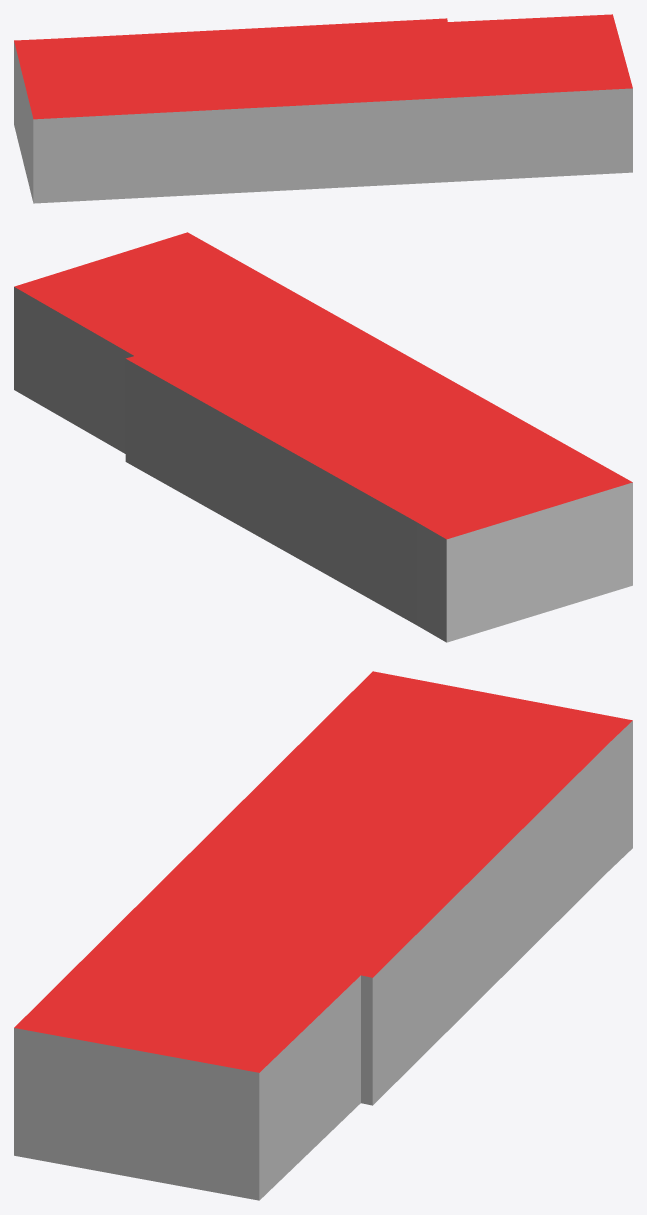
File: DEBY_LOD2_4908179.dae
3 views of the same model, one above another, from view 1: azimuth 30°, elevation 25°; view 2: azimuth 150°, elevation 25°; view 3: azimuth 270°, elevation 25° (orthographic). The views are drawn at different scales.
Bounding box in the file's own units: 20.71 × 13.49 × 3.07.
